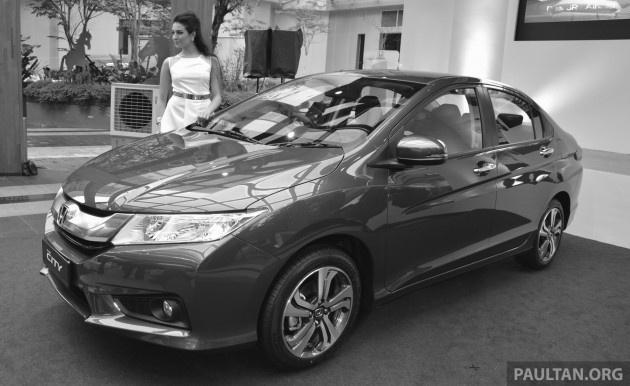Car hood: (58, 129, 345, 217)
Fender - -F-L-: (259, 155, 391, 321)
Fender - -R-L-: (528, 104, 584, 262)
Front bumper: (37, 202, 285, 353)
Headlight - -L-: (107, 206, 266, 248)
Passenger-s door - -F-L-: (366, 71, 504, 315)
Passenger-s door - -R-L-: (477, 68, 561, 281)
Side bumper - -L-: (368, 221, 540, 322)
Side mirror - -L-: (388, 131, 450, 167)
